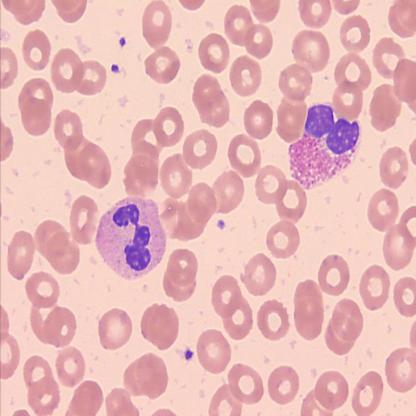Eosinophil: (286, 101, 362, 190)
